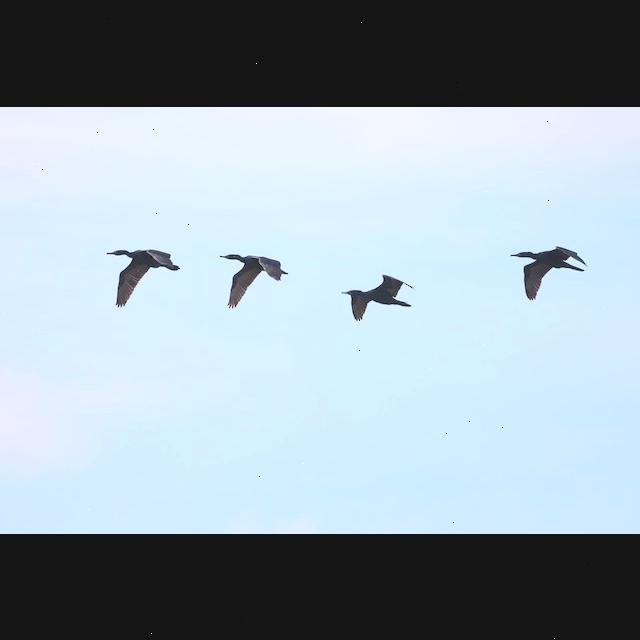cormorant: (504, 242, 596, 304), (99, 241, 185, 301), (336, 271, 424, 321), (214, 252, 292, 308)
